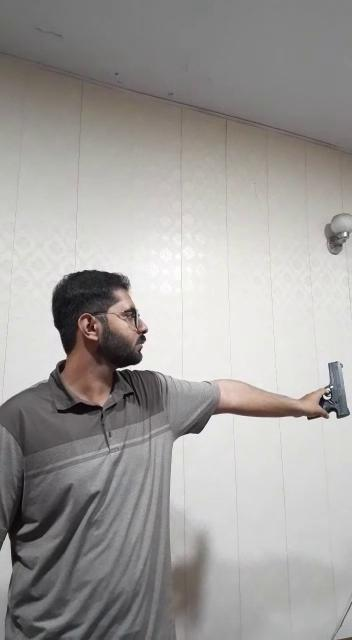criminal: (0, 266, 352, 640)
weapon: (299, 353, 352, 426)
